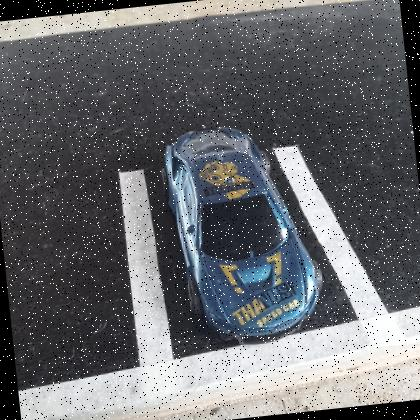Car: (163, 127, 321, 343)
